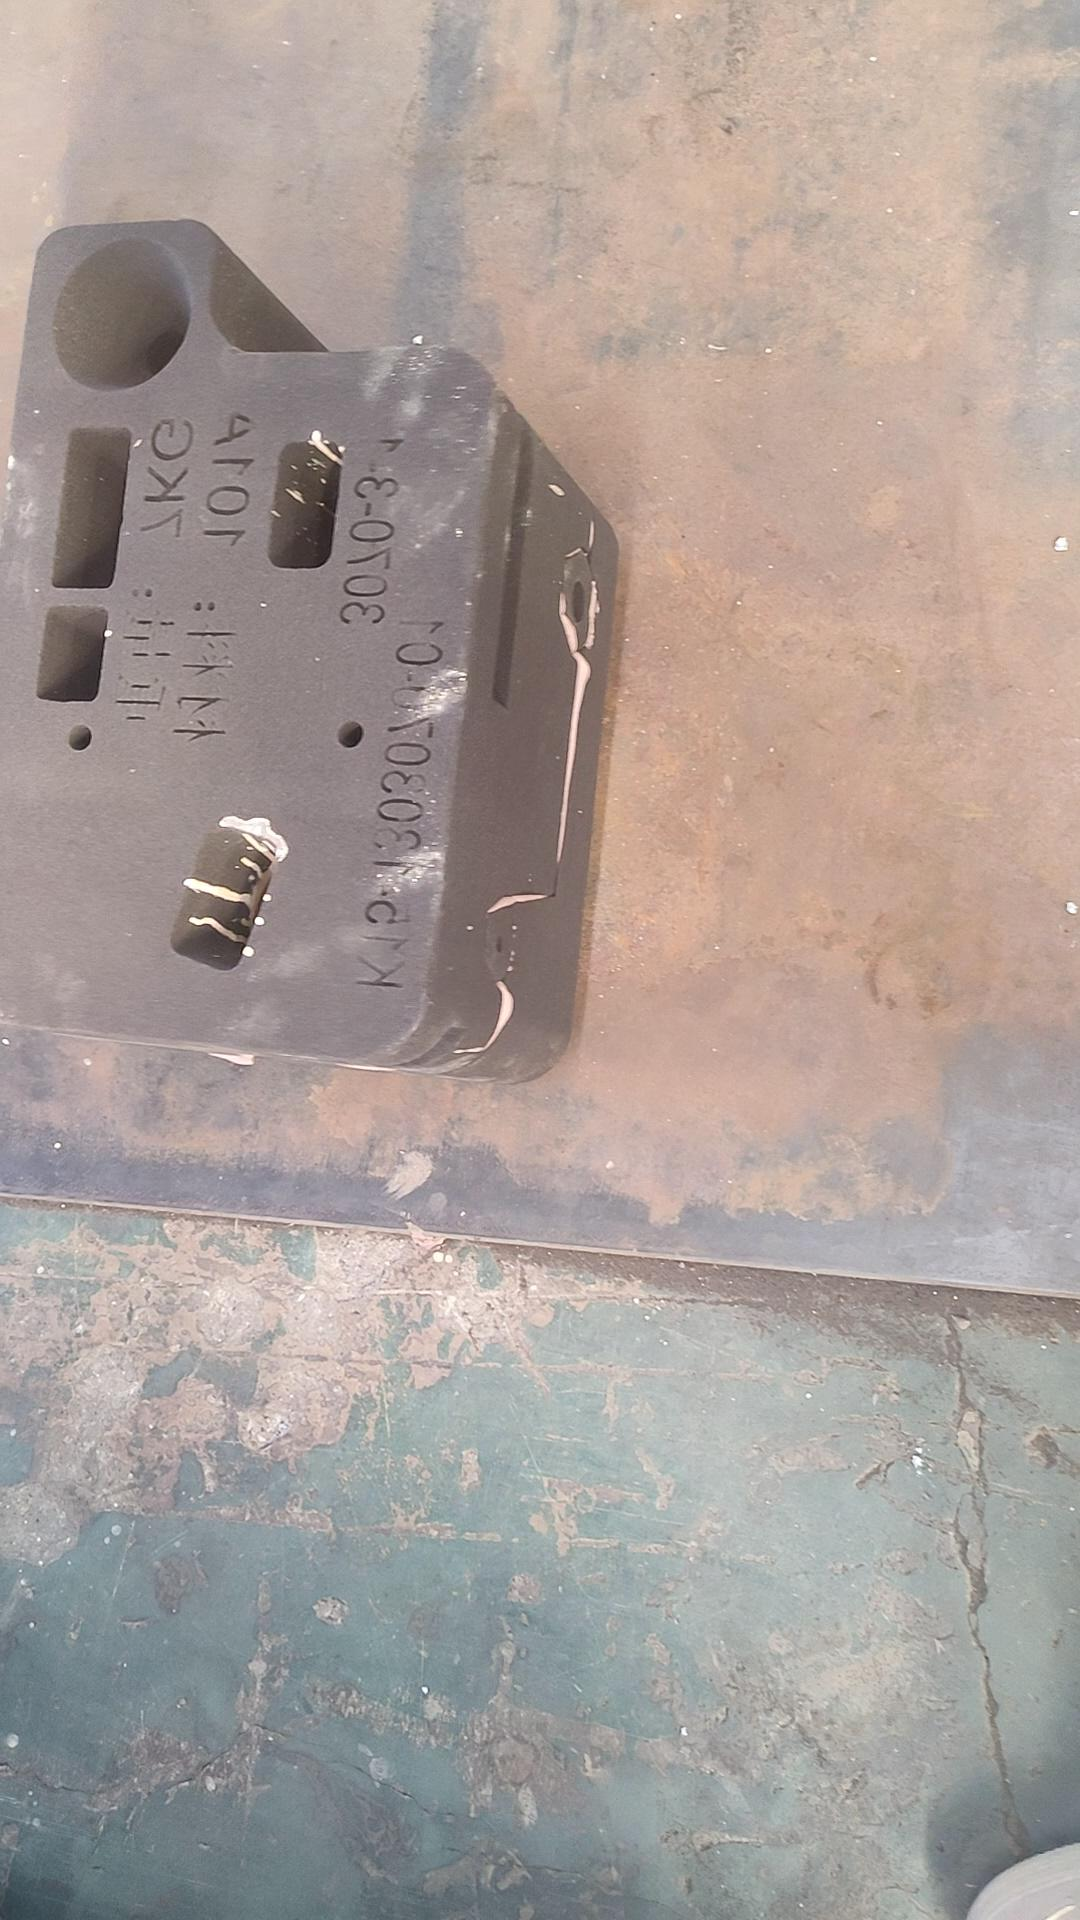pouring hole: (51, 233, 195, 392)
